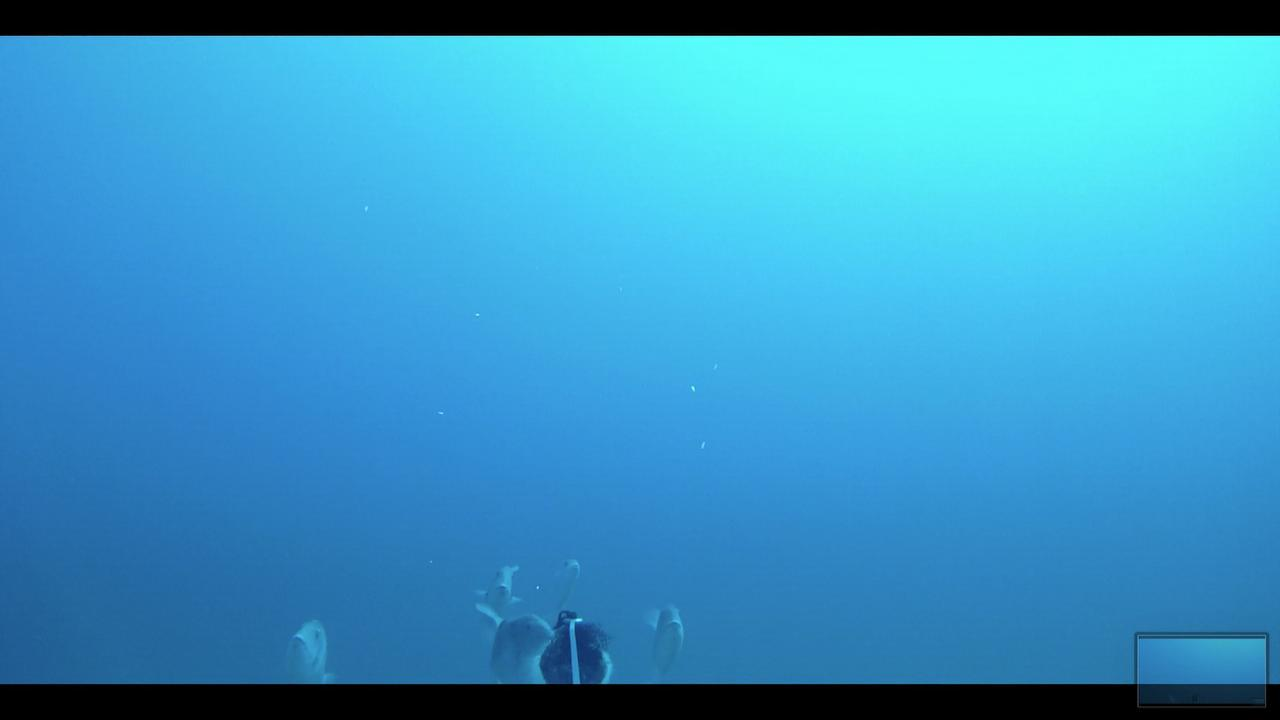balistes: (469, 599, 558, 682), (280, 610, 338, 684), (472, 557, 525, 613), (650, 596, 685, 674)
